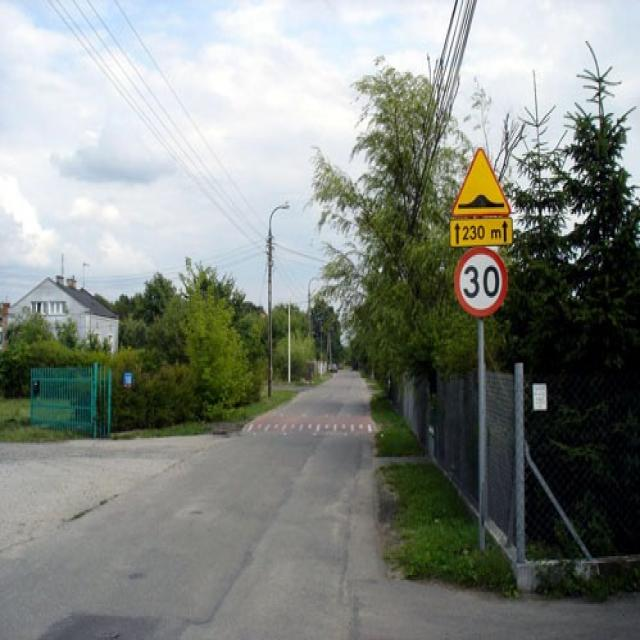Speed Limit -30-: (463, 265, 500, 299)
